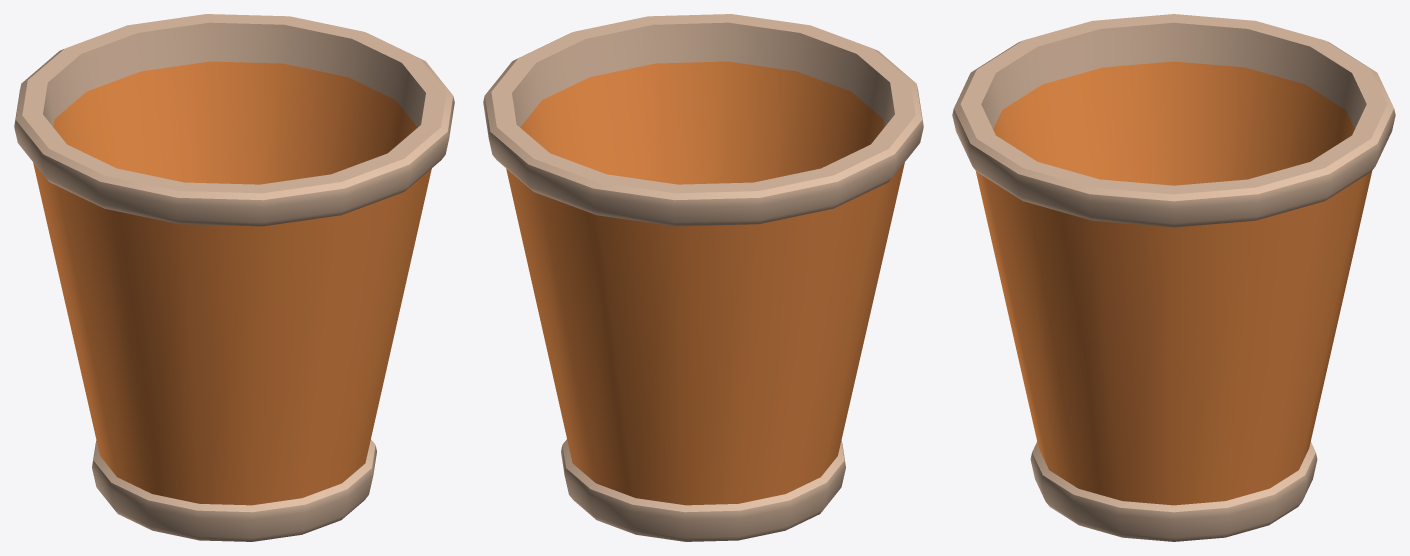
The model's file is TrashBin.fbx.
3 views of the same model, side by side, from view 1: azimuth 30°, elevation 25°; view 2: azimuth 150°, elevation 25°; view 3: azimuth 270°, elevation 25° (orthographic).
Visible parts, largest first — view 1: trash_bin:pCylinder1, trash_bin1:pCylinder1; view 2: trash_bin:pCylinder1, trash_bin1:pCylinder1; view 3: trash_bin:pCylinder1, trash_bin1:pCylinder1.
Boxes of the visible parts, <box> form: trash_bin:pCylinder1: <box>17,16,454,540</box>; trash_bin1:pCylinder1: <box>14,14,453,541</box>; trash_bin:pCylinder1: <box>484,16,923,541</box>; trash_bin1:pCylinder1: <box>483,14,921,541</box>; trash_bin:pCylinder1: <box>952,16,1395,541</box>; trash_bin1:pCylinder1: <box>956,14,1392,541</box>.
Bounding box in the file's own units: 4.09 × 3.89 × 4.09.
